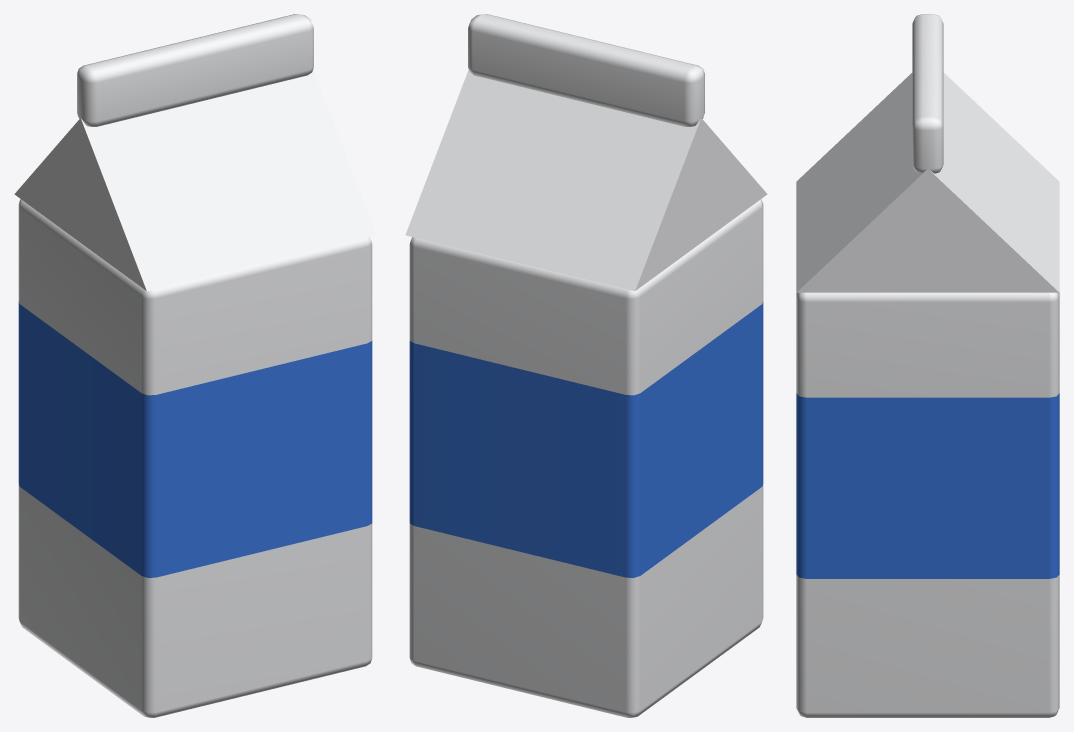
File: MilkCarton.fbx
3 views of the same model, side by side, from view 1: azimuth 30°, elevation 25°; view 2: azimuth 150°, elevation 25°; view 3: azimuth 270°, elevation 25° (orthographic).
Visible parts, largest first — view 1: MilkCarton; view 2: MilkCarton; view 3: MilkCarton.
Part boxes in pixels (x1,y1,x2,y2): MilkCarton: [14, 14, 376, 717]; MilkCarton: [405, 14, 767, 717]; MilkCarton: [796, 14, 1059, 717].
Bounding box in the file's own units: 0.5 × 1.26 × 0.5.
1 material, 1 textured.
